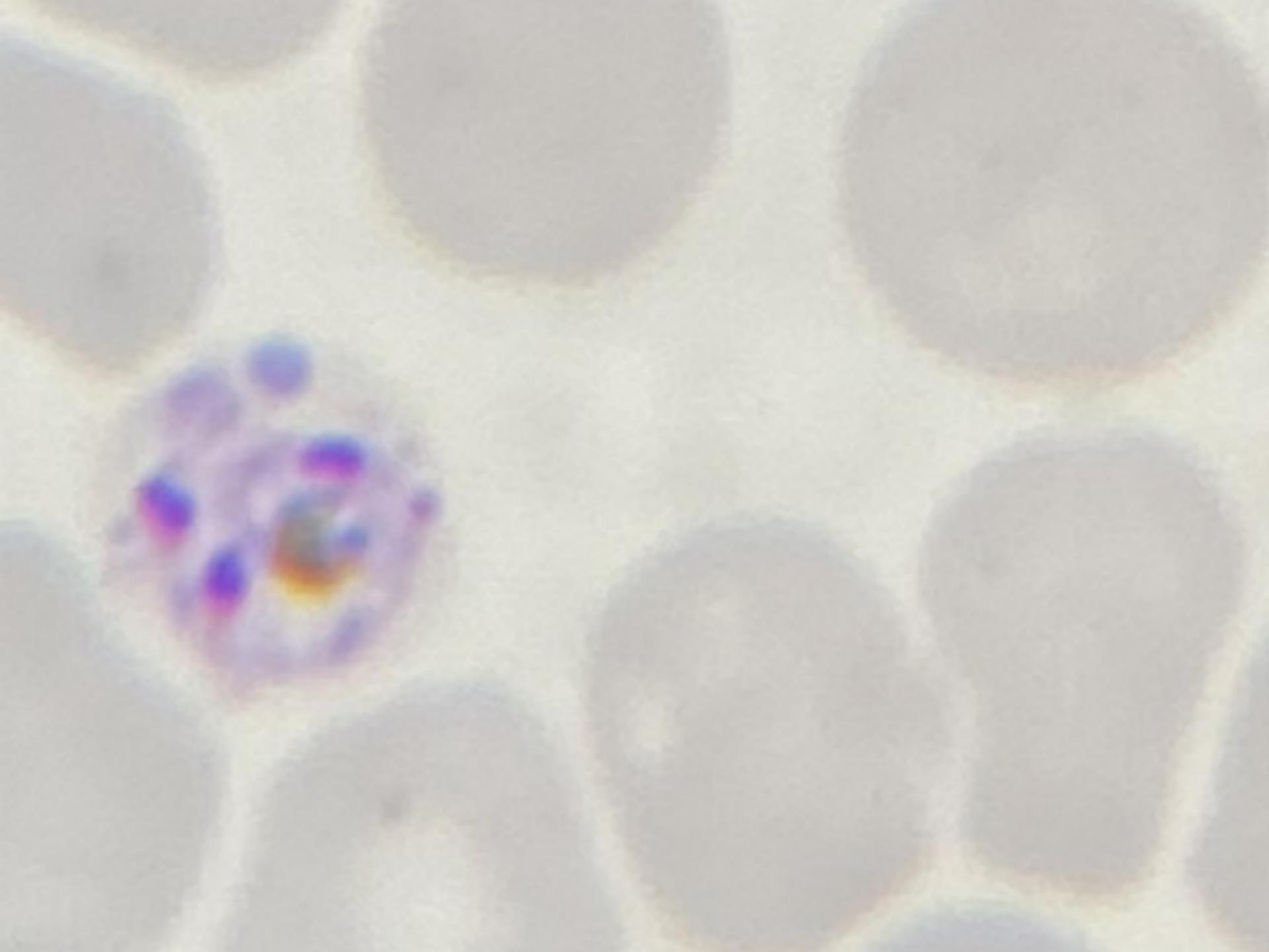Infected: (84, 320, 464, 723)
Uninfected: (590, 501, 949, 952), (846, 7, 1269, 370), (916, 417, 1240, 883), (207, 672, 618, 952), (359, 0, 724, 285), (0, 32, 220, 385)
